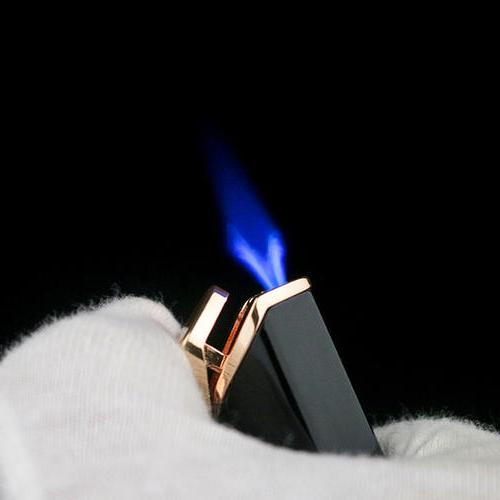fire: (214, 173, 304, 305)
